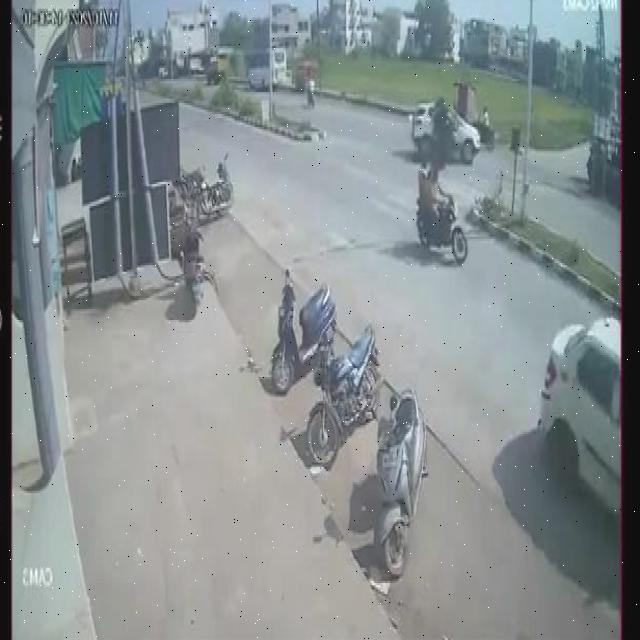accident: (402, 71, 485, 179)
